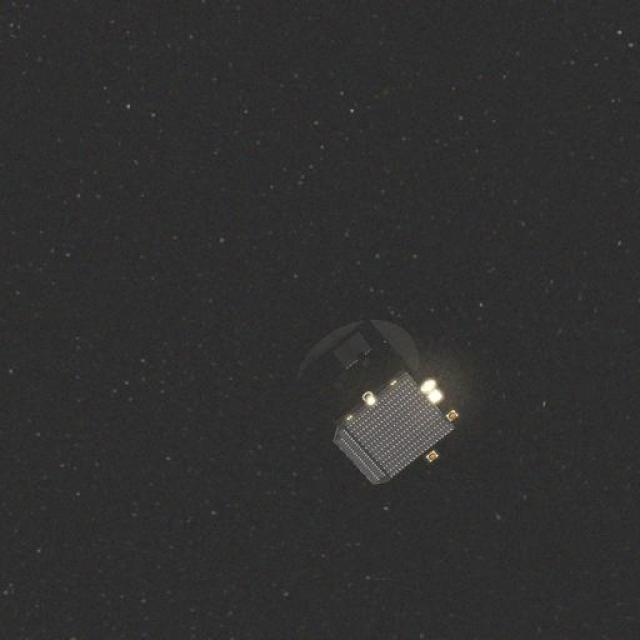proba_3_ocs: (261, 298, 462, 496)
